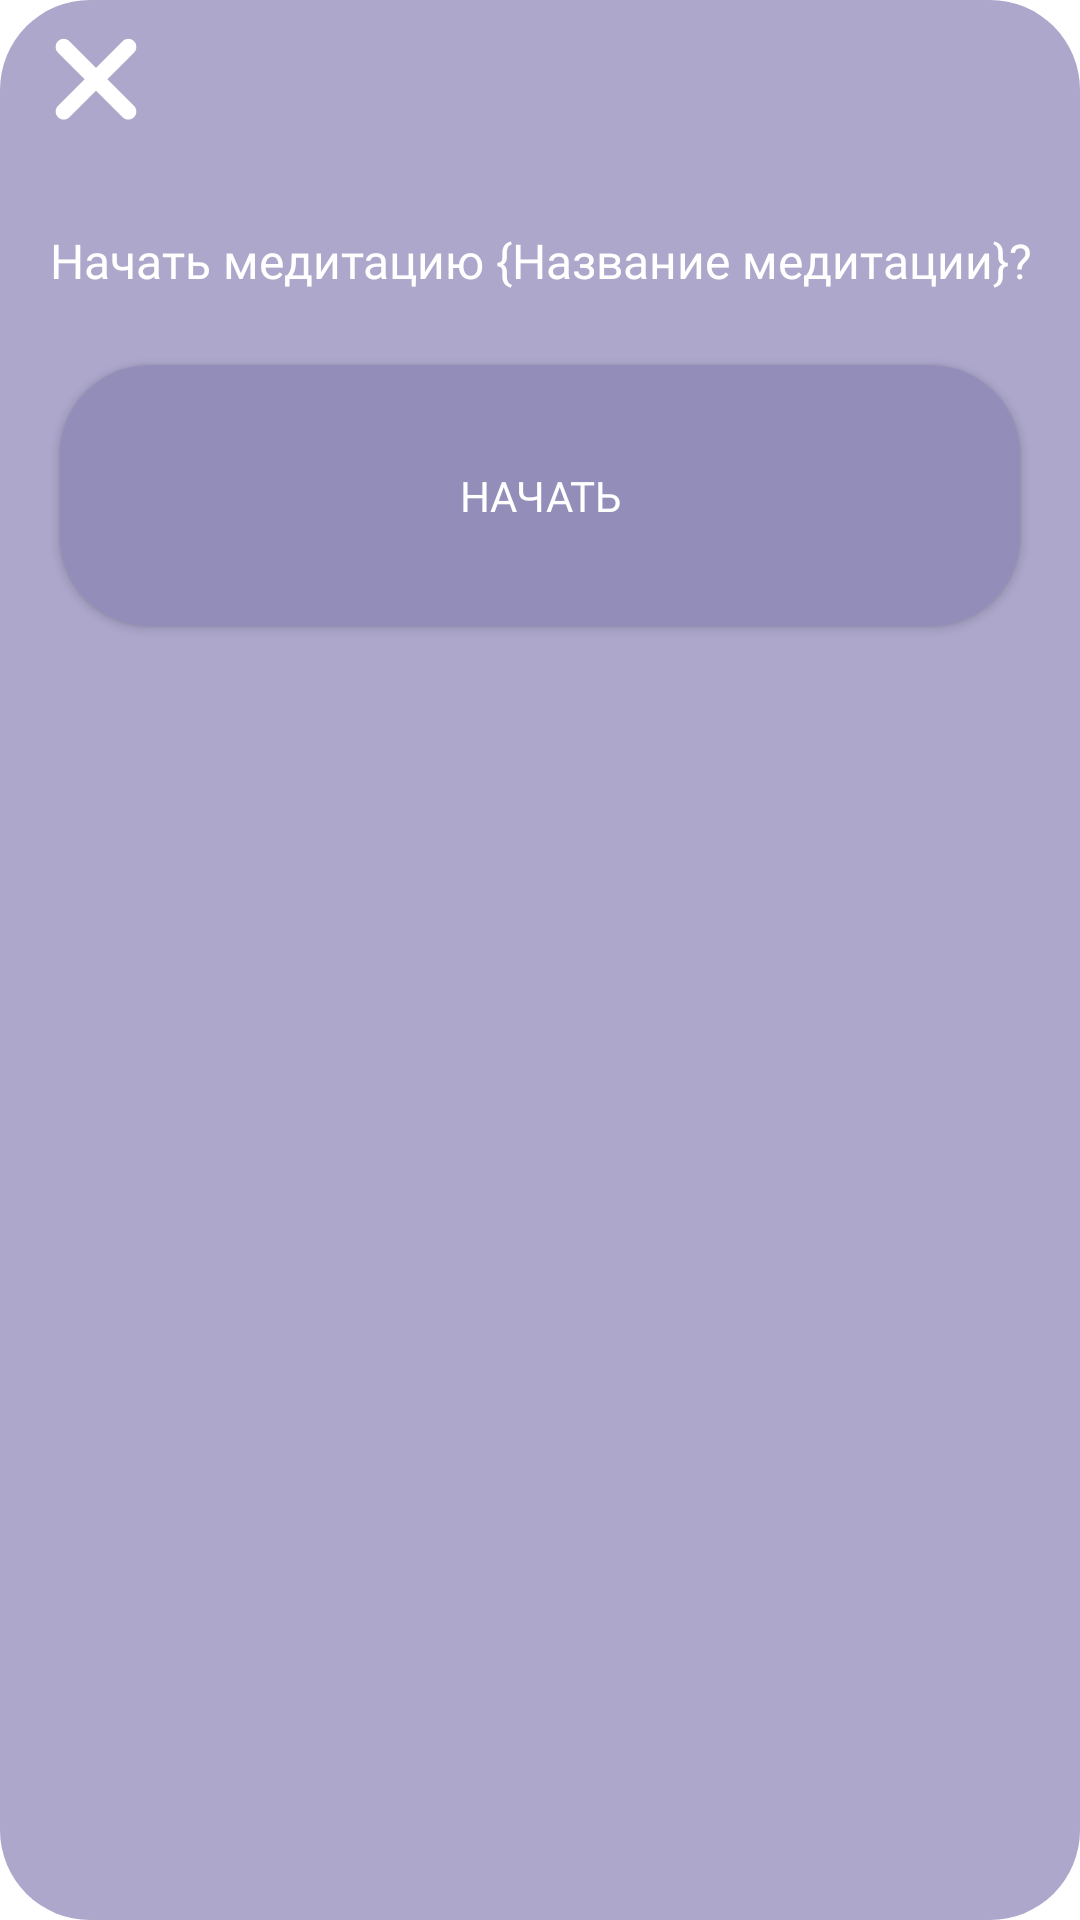

Locate icon controls on the screen. Image size 1080w x 1920h, boxes as (x1, y1, x2, y2).
cross: (55, 39, 136, 120)
